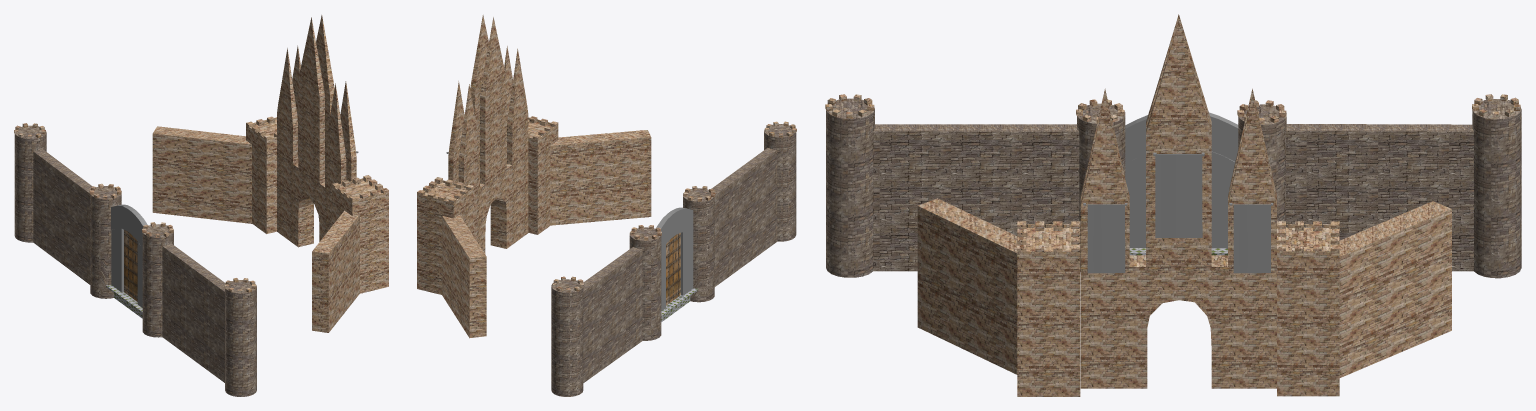
Rendered from castelo-asgard.obj.
3 views of the same model, side by side, from view 1: azimuth 30°, elevation 25°; view 2: azimuth 150°, elevation 25°; view 3: azimuth 270°, elevation 25° (orthographic). The views are drawn at different scales.
Parts seen in each view (by area): view 1: Box004, Object025, Object010, Object005, Object006, Object026, Object011, Object027, __; view 2: Box004, Object025, Object010, Object006, Object005, Object026, Object011, Object027, __; view 3: Box004, Object025, Object010, Object005, Object006, Plane006, Object026, Object011.
Boxes of the visible parts, x1,y1,x2,y2 form: Box004: (14,15,388,293); Object025: (33,149,225,382); Object010: (14,133,256,396); Object005: (152,126,251,223); Object006: (312,210,359,332); Object026: (111,204,147,307); Object011: (15,125,256,293); Object027: (124,230,137,301); __: (106,285,142,318); Box004: (417,15,796,294); Object025: (583,148,777,382); Object010: (551,131,796,396); Object006: (550,130,651,225); Object005: (442,214,486,338); Object026: (656,207,693,310); Object011: (551,124,794,292); Object027: (666,233,680,305); __: (661,288,698,321); Box004: (825,14,1520,396); Object025: (873,124,1473,271); Object010: (826,109,1521,278); Object005: (1339,201,1451,377); Object006: (917,198,1017,374); Plane006: (1087,154,1270,273); Object026: (1125,112,1238,248); Object011: (827,98,1521,124).
Size of the model in its own units: 21.84 by 24.2 by 39.5.
